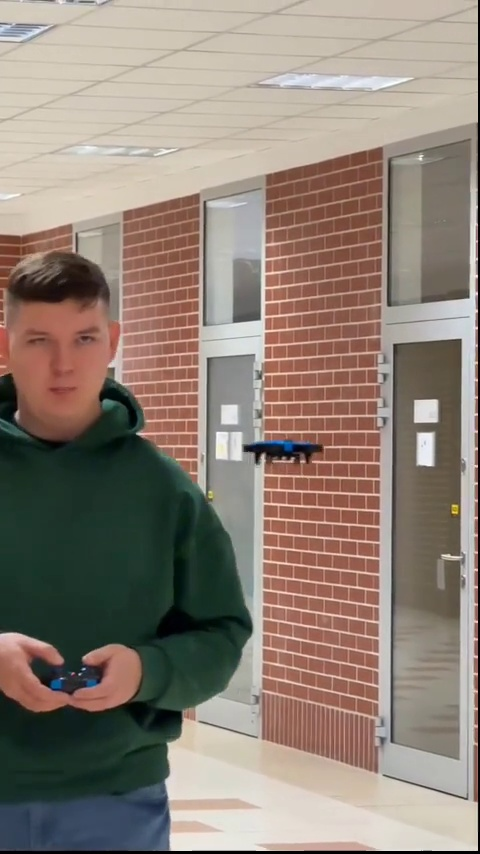drone: (244, 440, 321, 463)
no vest: (0, 252, 253, 848)
